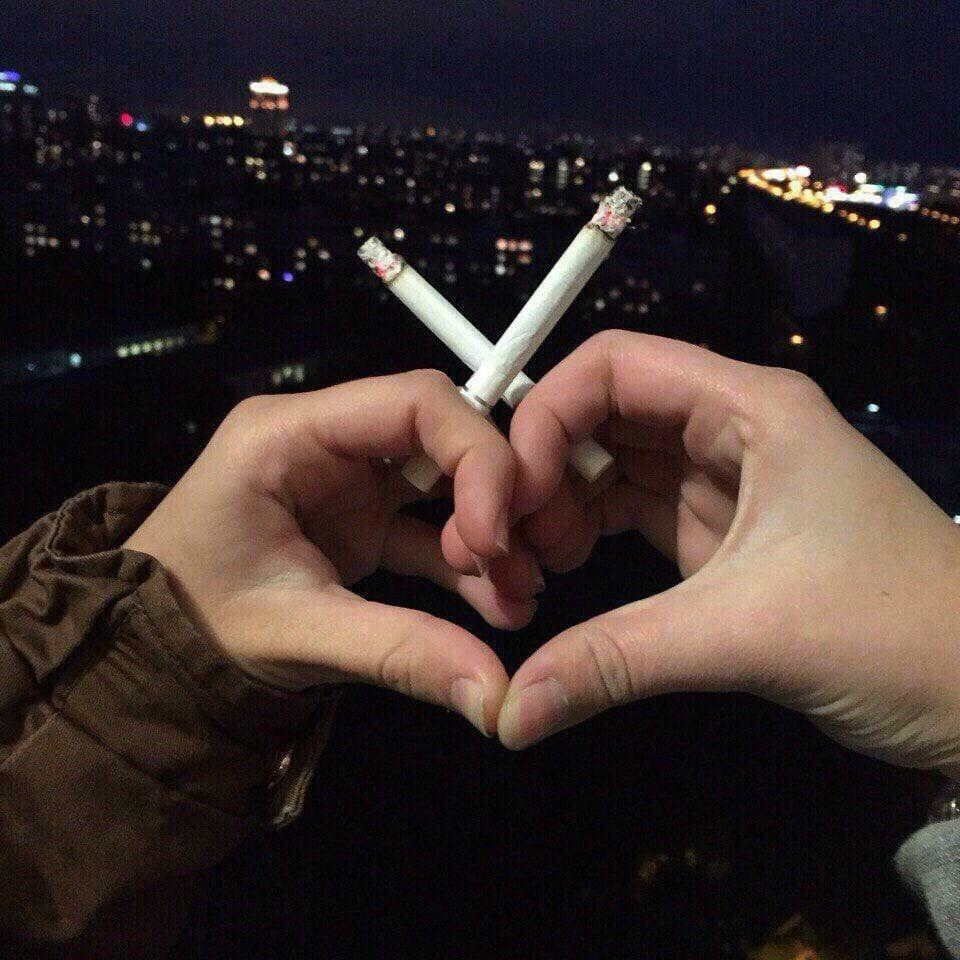cigarette: (403, 185, 642, 495), (358, 237, 618, 483)
